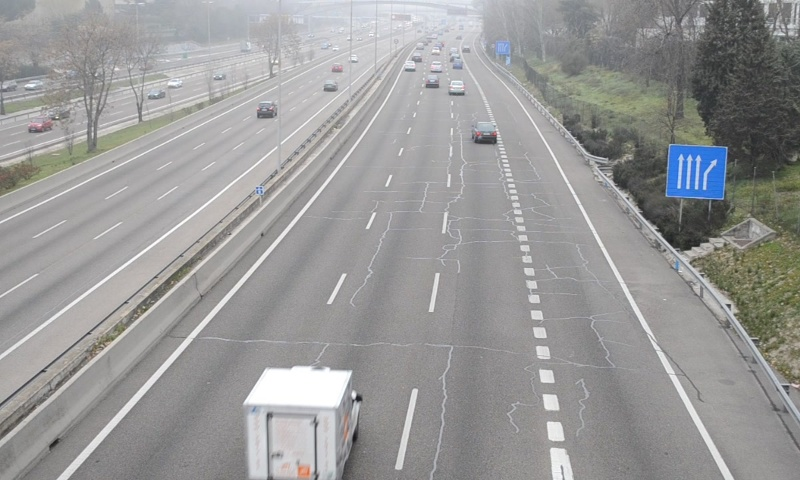car: (471, 120, 497, 144)
small-truck: (243, 366, 364, 480)
